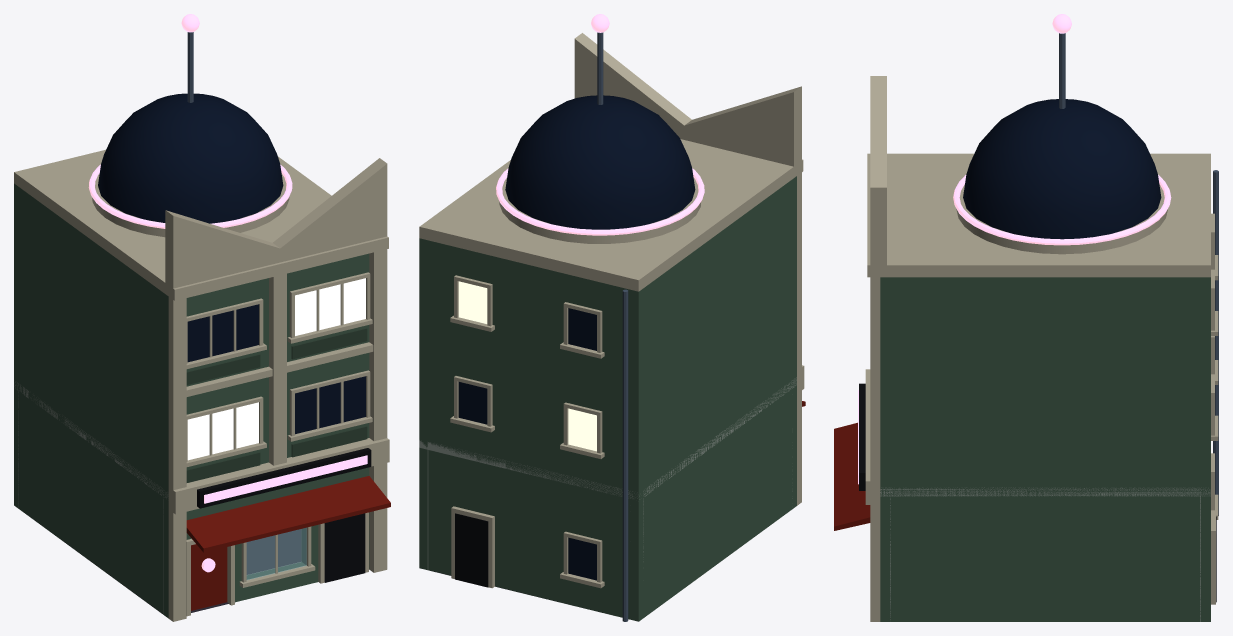
Rendered from row_butterfly.glb.
3 renders of one model, left to right at view 1: azimuth 30°, elevation 25°; view 2: azimuth 150°, elevation 25°; view 3: azimuth 270°, elevation 25°, orthographic. The views are drawn at different scales.
Visible parts, largest first — view 1: row_butterfly, door_shop_leaf; view 2: row_butterfly; view 3: row_butterfly.
Part boxes in pixels (x1,y1,x2,y2): row_butterfly: (14, 14, 390, 621); door_shop_leaf: (191, 544, 227, 610); row_butterfly: (419, 14, 805, 621); row_butterfly: (834, 14, 1218, 621).
Size of the model in its own units: 8 by 18.4 by 11.64.
